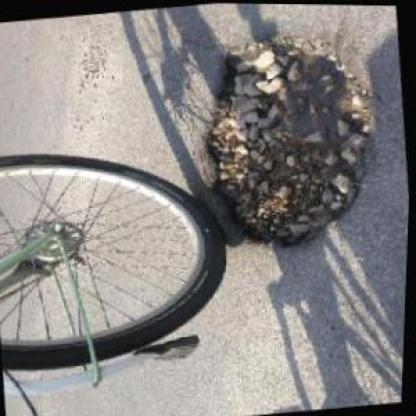pothole: (187, 23, 388, 258)
